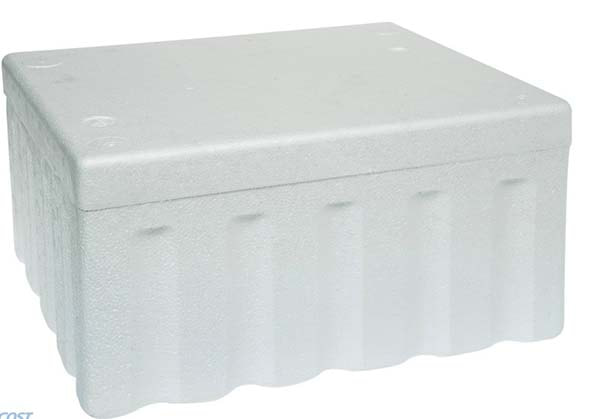Foam Box: (1, 17, 577, 419)
